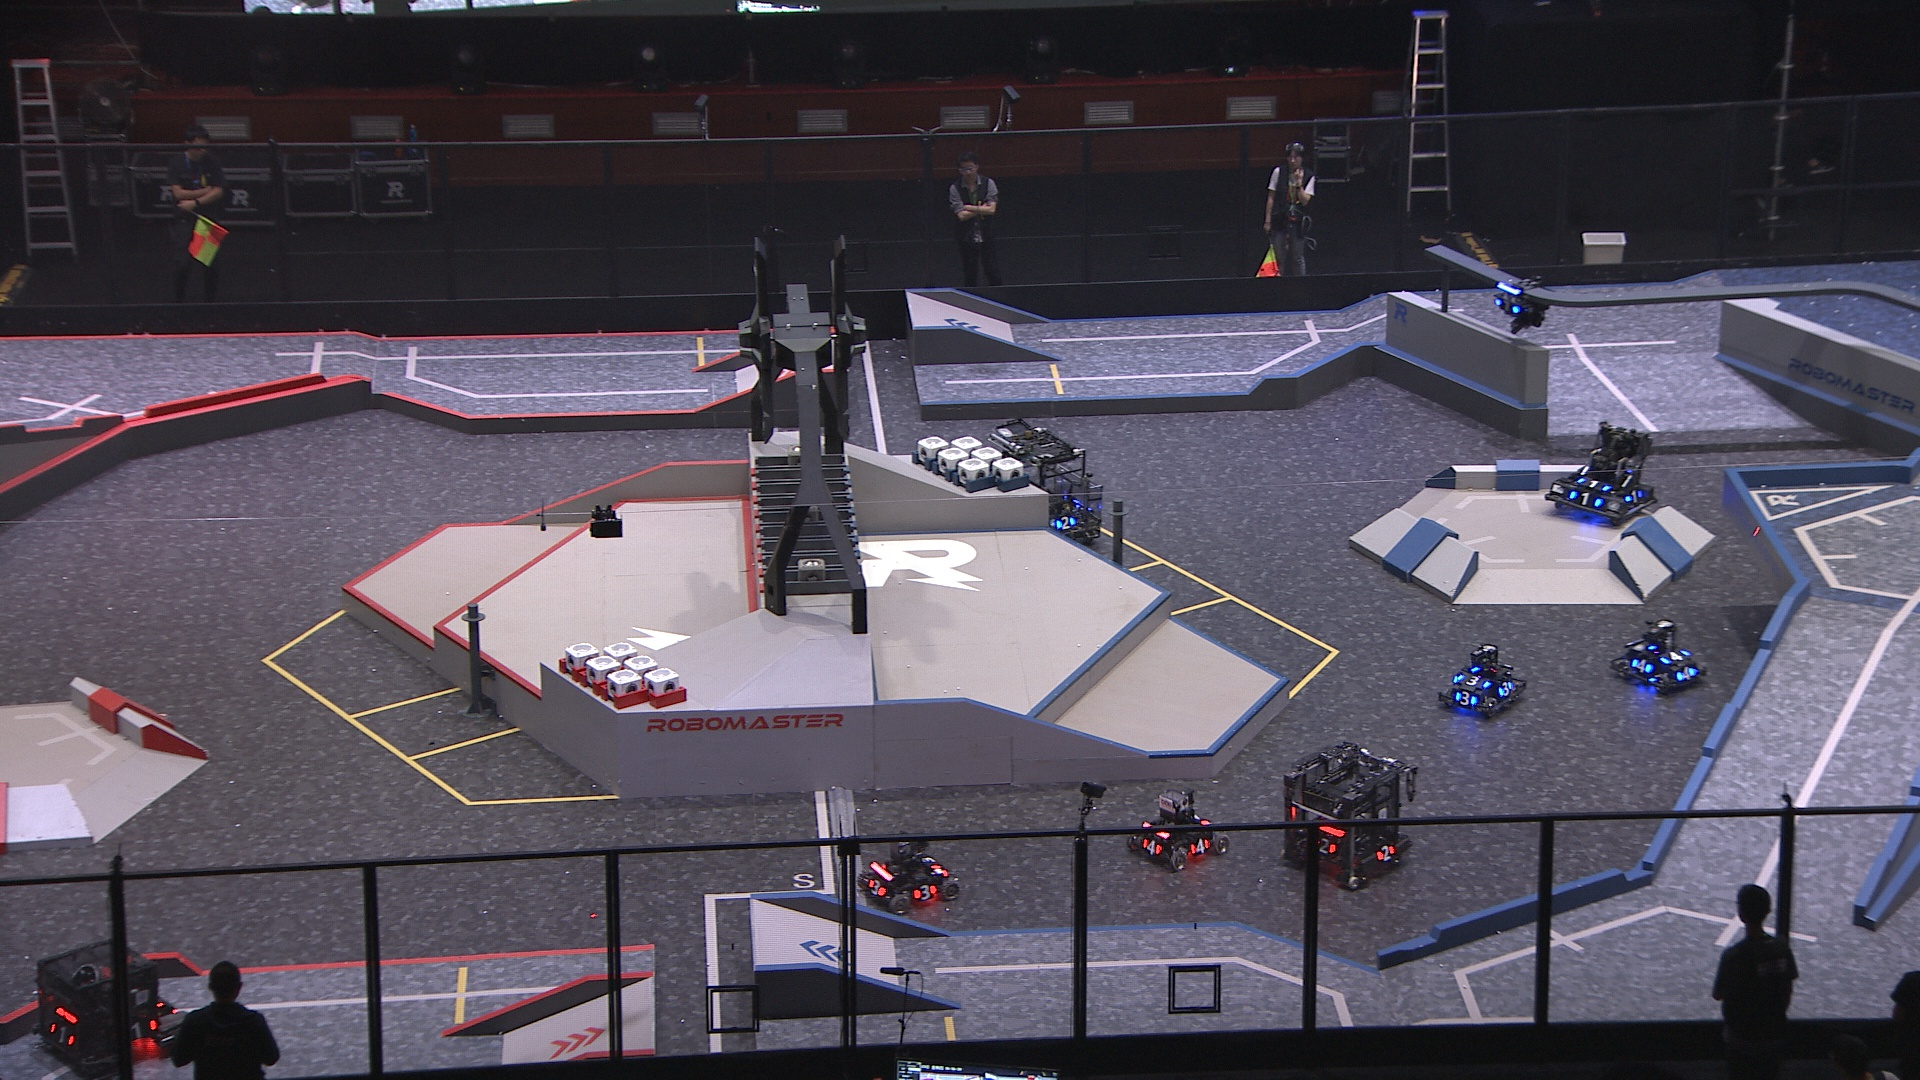armor: (49, 1019, 78, 1048), (1575, 473, 1611, 495), (1453, 669, 1490, 688), (1569, 488, 1602, 509), (131, 1015, 158, 1040), (911, 880, 939, 902), (918, 849, 942, 873), (1315, 835, 1338, 858), (1451, 688, 1477, 709), (1494, 297, 1522, 316), (1659, 647, 1691, 665), (1673, 665, 1698, 684), (1375, 841, 1396, 864), (1141, 835, 1162, 856), (1494, 678, 1514, 699), (1054, 513, 1076, 531), (866, 876, 884, 899), (1189, 837, 1211, 856), (1633, 655, 1654, 674), (1623, 487, 1642, 504)
car: (1275, 738, 1425, 891), (32, 938, 171, 1076), (982, 415, 1112, 547), (1539, 425, 1665, 524), (1122, 789, 1240, 870), (1602, 617, 1712, 704), (855, 829, 959, 913), (1436, 641, 1528, 719)
watcher: (1490, 272, 1555, 334)
